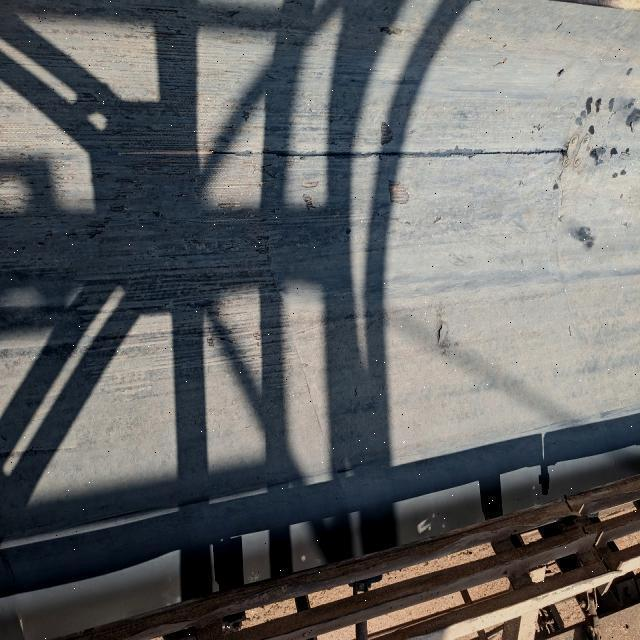Tear: (113, 133, 574, 167)
